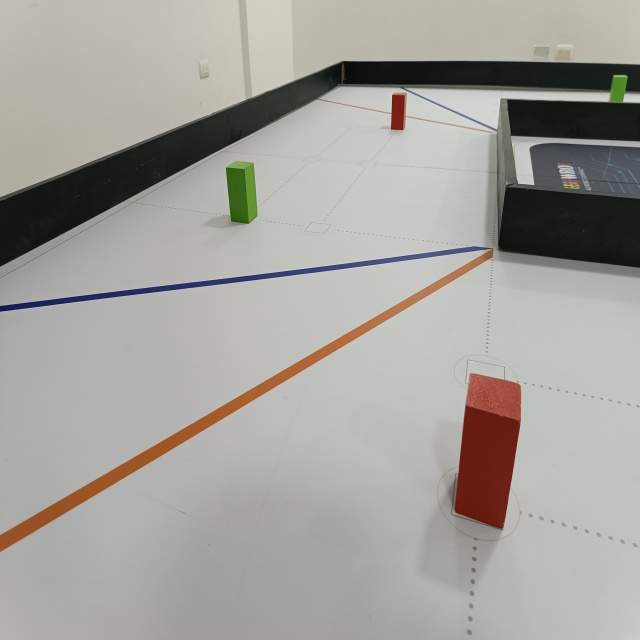blue line: (0, 241, 491, 314), (396, 85, 507, 136)
green rectangular prism: (223, 163, 262, 224), (606, 70, 635, 102)
orange line: (0, 253, 493, 559), (308, 96, 497, 138)
red rectangular prism: (455, 373, 523, 533), (391, 93, 407, 130)
